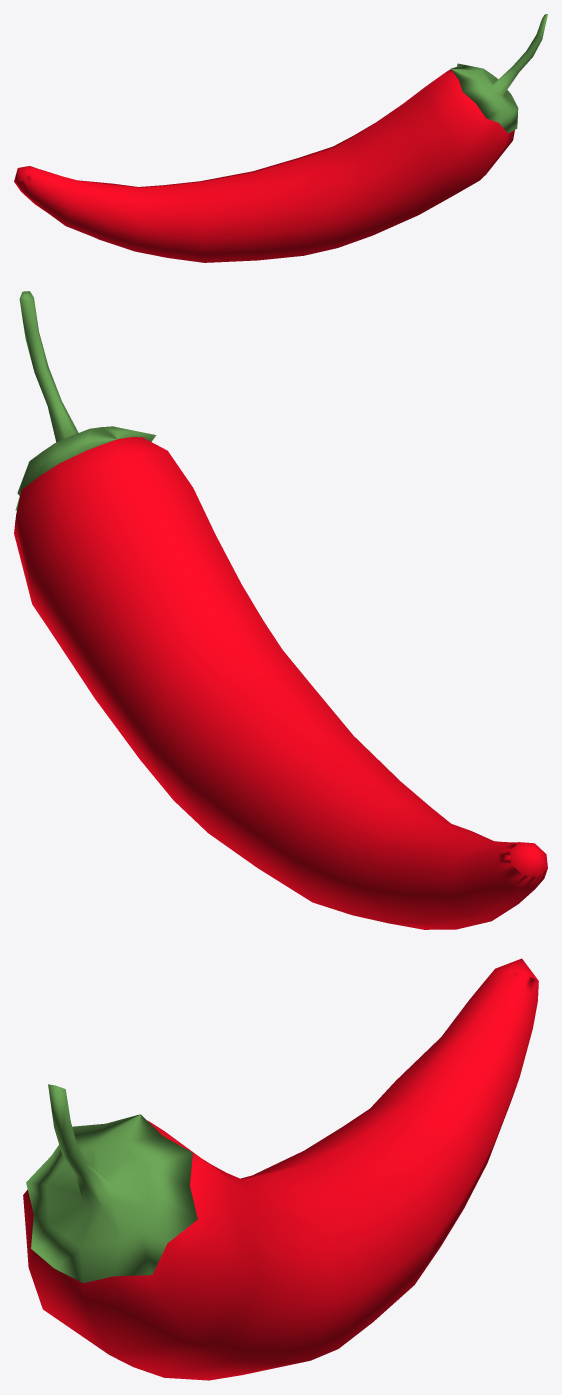
File: ToyObject_038.fbx
The picture shows the model from 3 angles, top to bottom: view 1: azimuth 30°, elevation 25°; view 2: azimuth 150°, elevation 25°; view 3: azimuth 270°, elevation 25°; orthographic projection. The views are drawn at different scales.
Parts seen in each view (by area): view 1: 1.038; view 2: 1.038; view 3: 1.038.
Boxes of the visible parts, x1,y1,x2,y2 form: 1.038: [14, 14, 547, 262]; 1.038: [14, 291, 547, 929]; 1.038: [23, 958, 538, 1380].
Size of the model in its own units: 0.2111 by 0.1146 by 0.1129.
